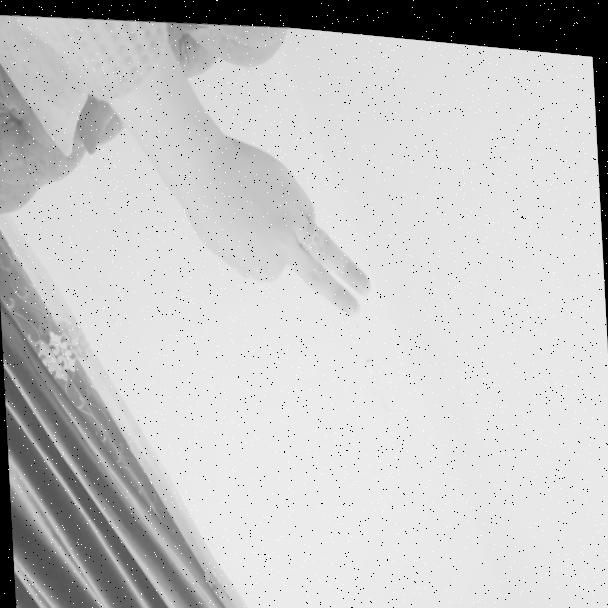five: (183, 137, 374, 331)
